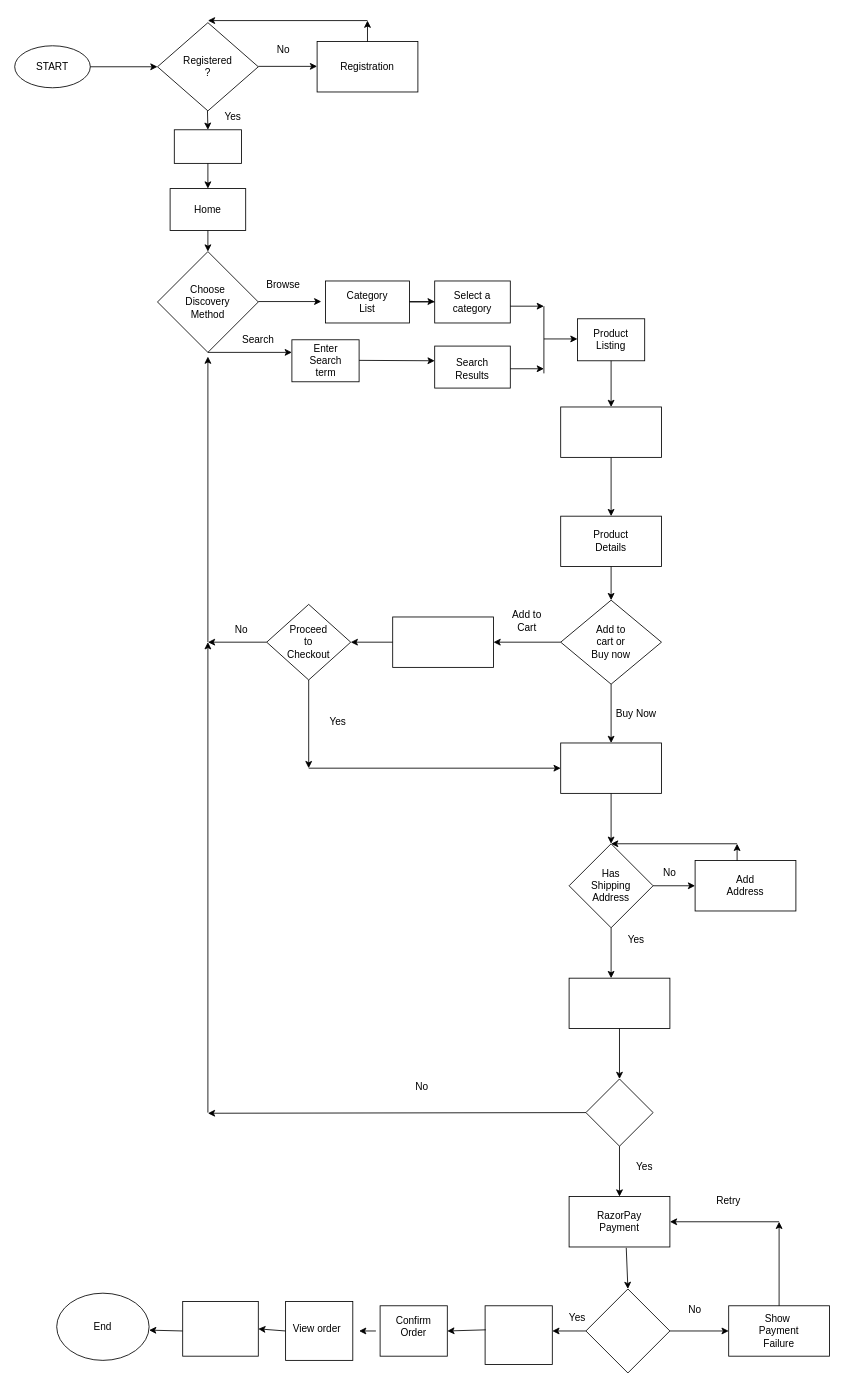
Image size: 844x1388. Some labels were removed from this diagram. Here are the shapes that lost their labels. From the top down, the centre of each, then its label:
At pixel 207 146: "Log In".
At pixel 611 431: "Select a Product".
At pixel 443 641: "Cart View".
At pixel 611 767: "Checkout".
At pixel 619 1003: "Checkout Review".
At pixel 619 1112: "Proceed to Payment".
At pixel 220 1328: "Track Shipment".
At pixel 518 1335: "Payment verified".
At pixel 627 1330: "Payment Success".
